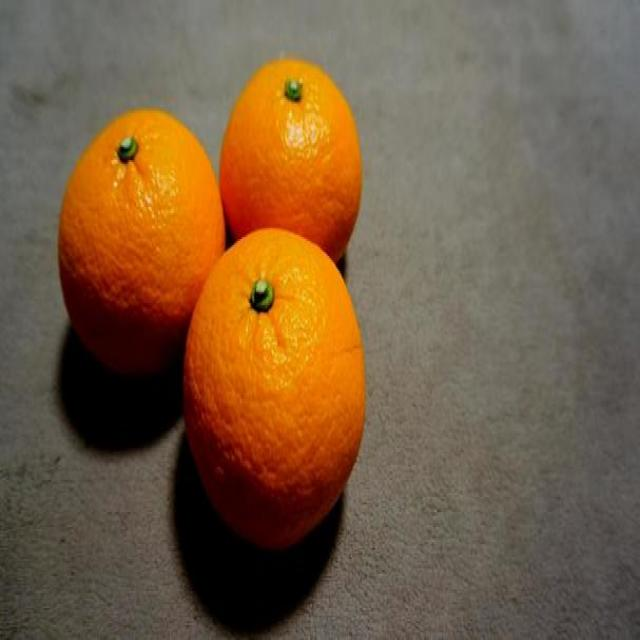Orange: (185, 225, 364, 540), (57, 104, 225, 358), (218, 55, 363, 254)
